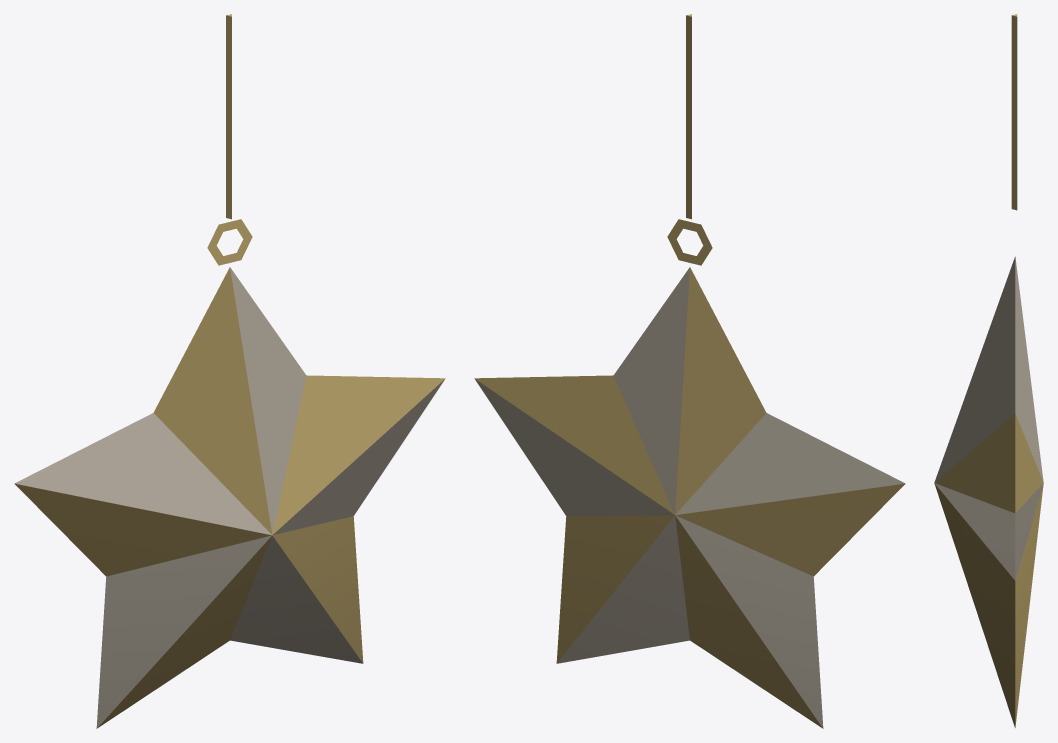
Rendered from hanging-star.glb.
3 views of the same model, side by side, from view 1: azimuth 30°, elevation 25°; view 2: azimuth 150°, elevation 25°; view 3: azimuth 270°, elevation 25° (orthographic). The views are drawn at different scales.
Visible parts, largest first — view 1: root_mesh; view 2: root_mesh; view 3: root_mesh.
Part boxes in pixels (x1,y1,x2,y2): root_mesh: (14, 14, 445, 728); root_mesh: (474, 14, 905, 728); root_mesh: (934, 14, 1043, 727).
Bounding box in the file's own units: 0.5306 × 0.8 × 0.1218.
